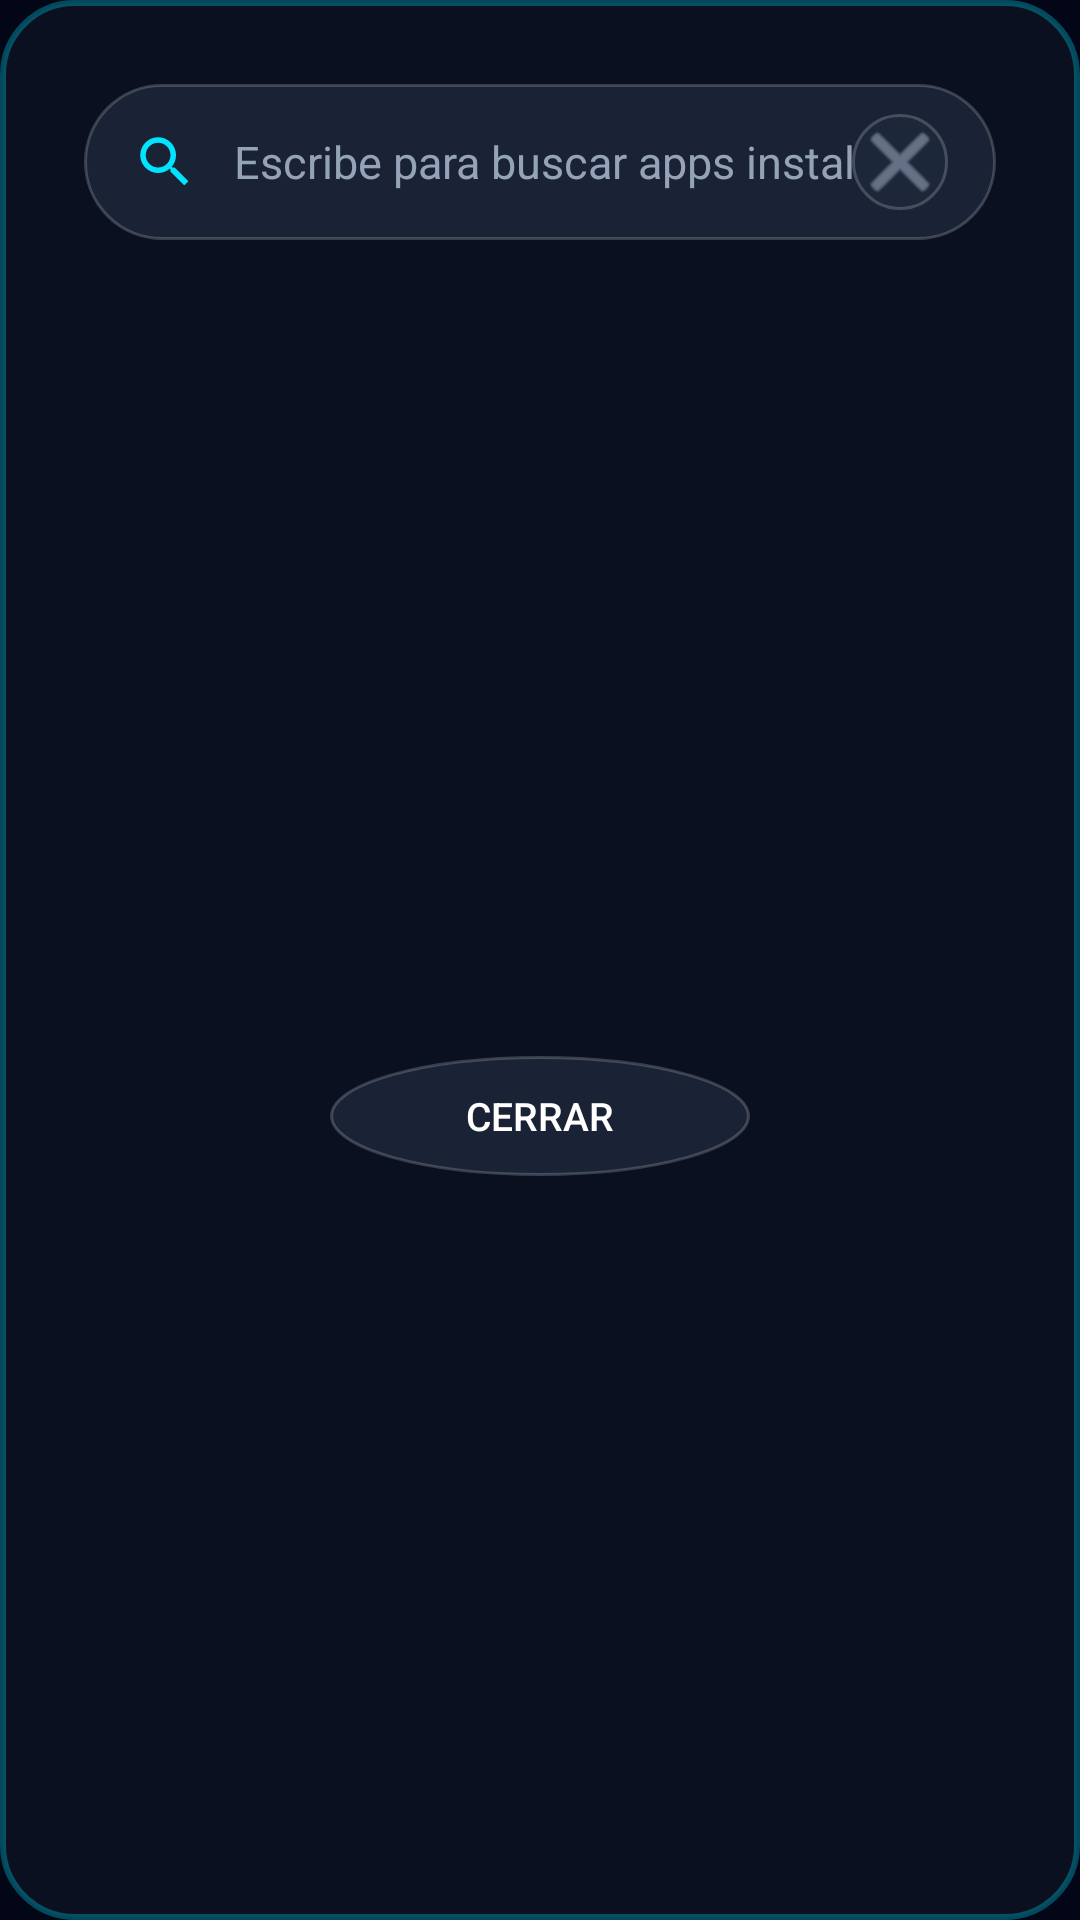

Point at icon controls on the screen. Image size 1080 × 1920, points as [x,y].
close clear cancel: [900,162]
search: [164,161]
